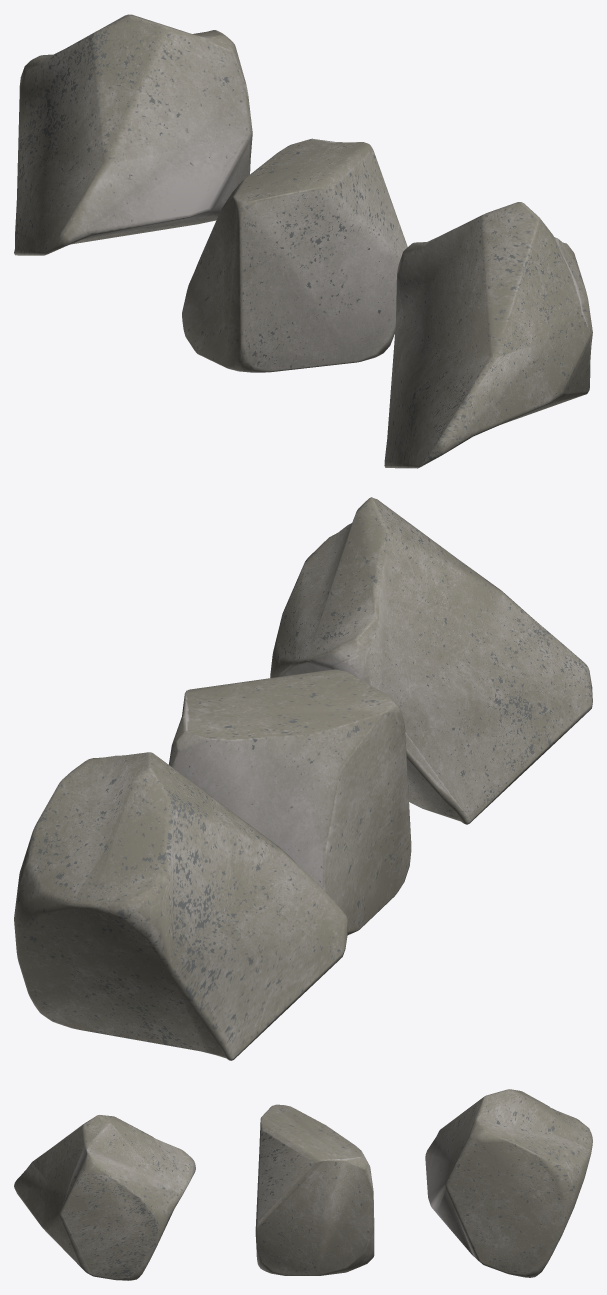
The model's file is kamni.fbx.
The picture shows the model from 3 angles, top to bottom: view 1: azimuth 30°, elevation 25°; view 2: azimuth 150°, elevation 25°; view 3: azimuth 270°, elevation 25°; orthographic projection. The views are drawn at different scales.
Parts seen in each view (by area): view 1: Cube.001, Cube, Cube.002; view 2: Cube.001, Cube.002, Cube; view 3: Cube.001, Cube.002, Cube.
Part boxes in pixels (bbox=[...]): Cube.001: bbox=[14, 14, 252, 255]; Cube: bbox=[182, 138, 407, 372]; Cube.002: bbox=[384, 202, 592, 468]; Cube.001: bbox=[14, 752, 348, 1060]; Cube.002: bbox=[270, 497, 592, 824]; Cube: bbox=[168, 669, 411, 934]; Cube.001: bbox=[425, 1089, 592, 1277]; Cube.002: bbox=[14, 1115, 195, 1280]; Cube: bbox=[255, 1104, 374, 1275].
Bounding box in the file's own units: 387 × 332 × 983.
1 material, 1 textured.
